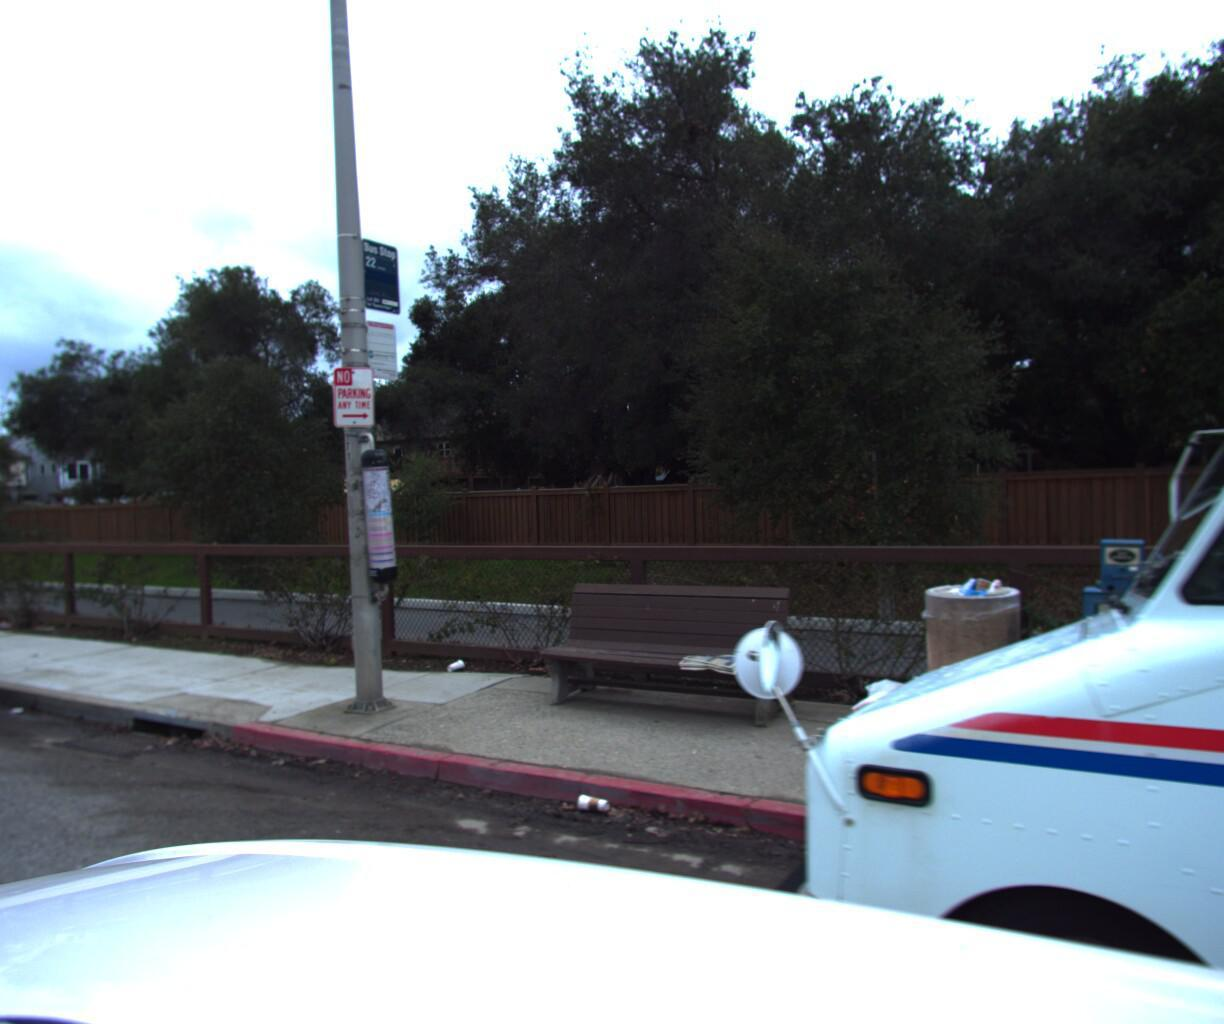car: (0, 539, 24, 779)
other_vehicle: (699, 0, 1224, 1024)
